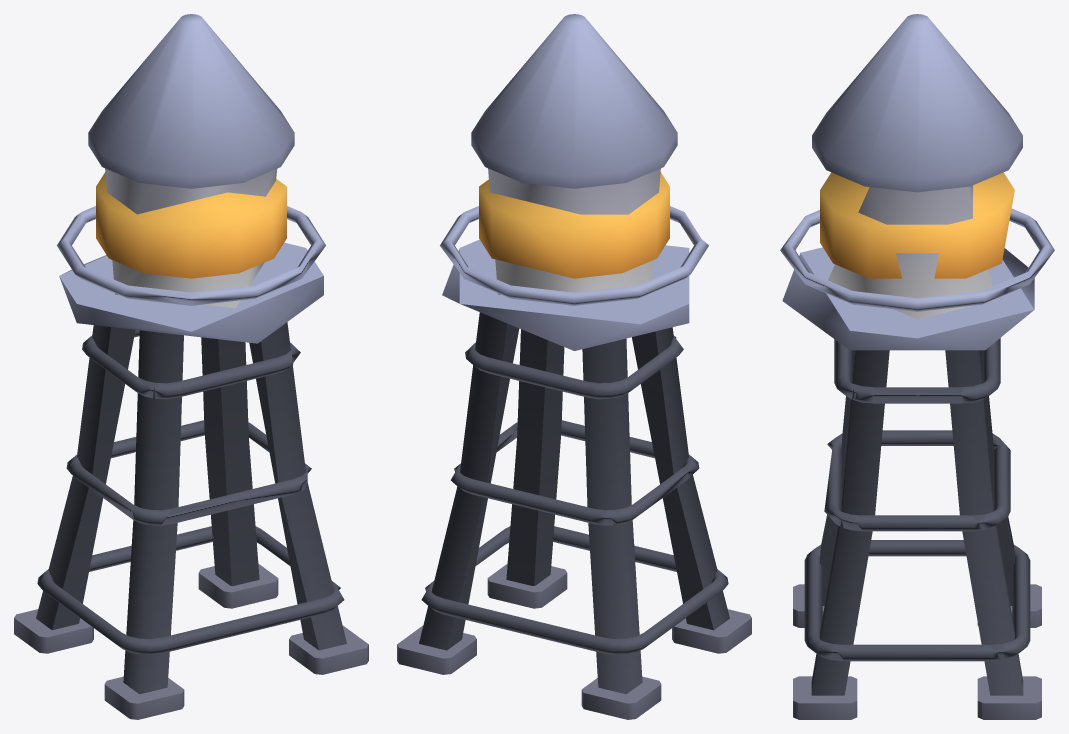
The model's file is water-tower.glb.
3 views of the same model, side by side, from view 1: azimuth 30°, elevation 25°; view 2: azimuth 150°, elevation 25°; view 3: azimuth 270°, elevation 25° (orthographic). The views are drawn at different scales.
Parts seen in each view (by area): view 1: water-tower; view 2: water-tower; view 3: water-tower.
Part boxes in pixels (x1,y1,x2,y2): water-tower: (14, 14, 368, 719); water-tower: (397, 14, 751, 719); water-tower: (780, 14, 1054, 719).
Size of the model in its own units: 0.8521 by 2.14 by 0.8317.
Materials: 1 (1 with a texture image).
